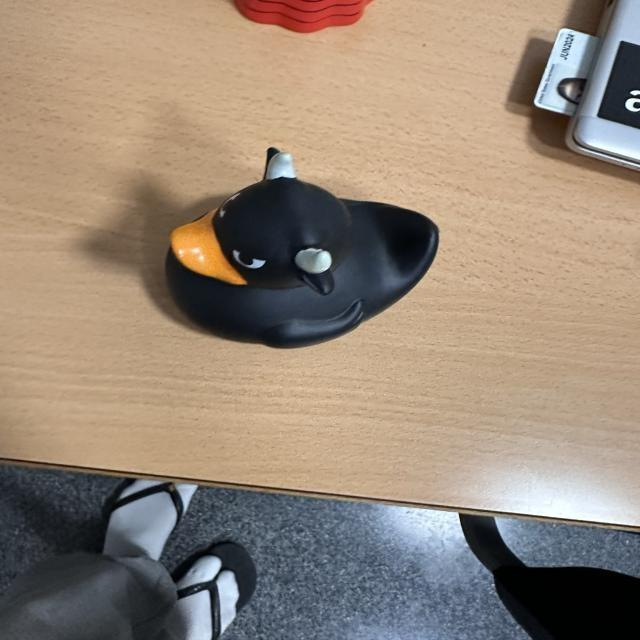rubber-duck: (165, 147, 436, 345)
